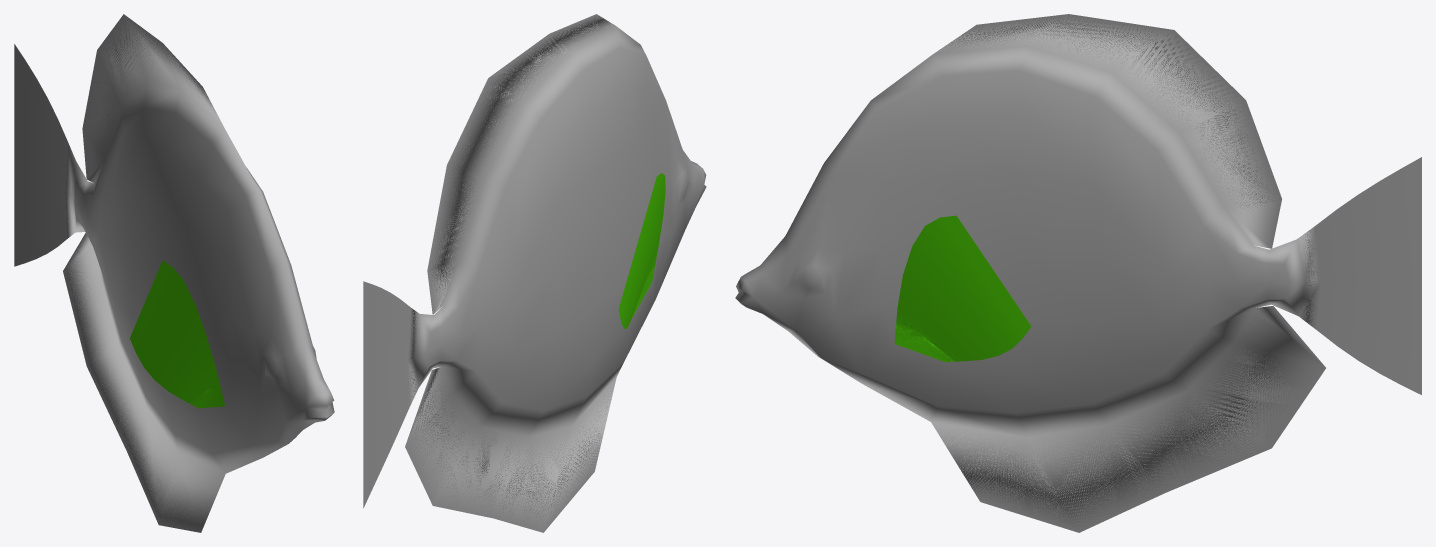
Rendered from Chaetodontidae_G_S.fbx.
3 views of the same model, side by side, from view 1: azimuth 30°, elevation 25°; view 2: azimuth 150°, elevation 25°; view 3: azimuth 270°, elevation 25° (orthographic). The views are drawn at different scales.
Parts seen in each view (by area): view 1: Chaetodontidae_G_S_Mesh; view 2: Chaetodontidae_G_S_Mesh; view 3: Chaetodontidae_G_S_Mesh.
Part boxes in pixels (x1,y1,x2,y2): Chaetodontidae_G_S_Mesh: (14,14,334,532); Chaetodontidae_G_S_Mesh: (363,14,706,532); Chaetodontidae_G_S_Mesh: (735,14,1421,532).
Size of the model in its own units: 0.00181 by 0.0084 by 0.0101.
